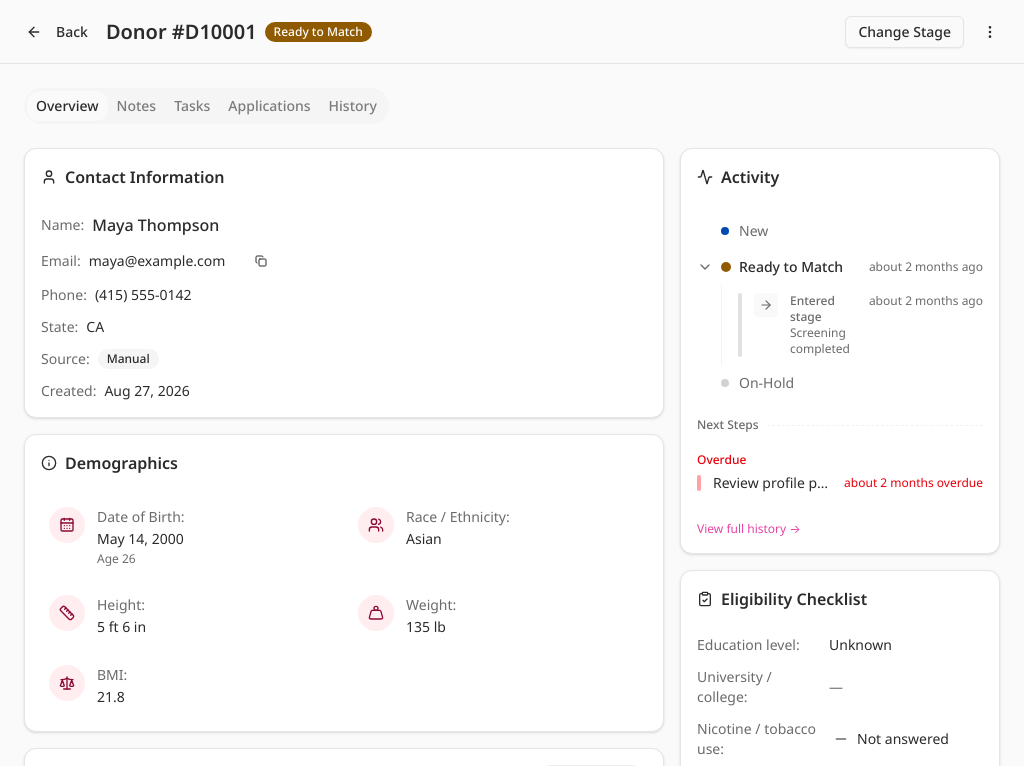
Test: DonorDetailPage › uses the surrogate overview cards and keeps notes, tasks and attachments in their tabs
Expected: the text "Contact Information" is shown, [41,165,224,189]
Expected: the text "Demographics" is shown, [41,451,178,475]
Click the tab "Notes" at (136, 106), box [108,91,165,121]
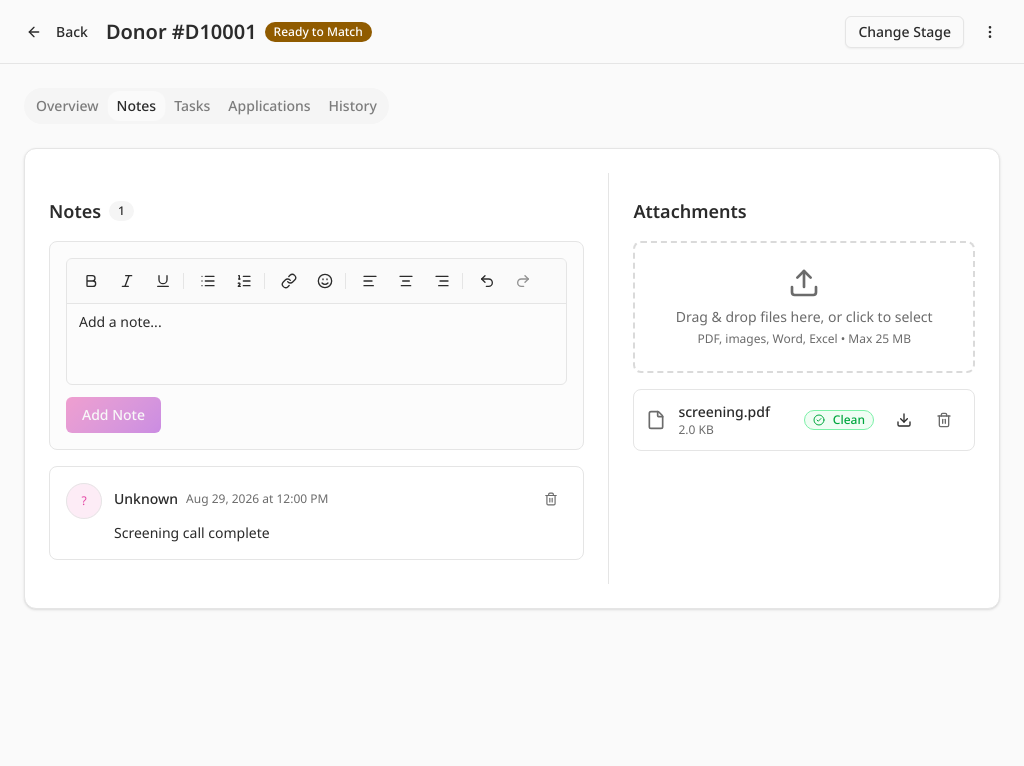
Expected: the heading "Attachments" is shown, [633,197,747,225]
Expected: the text "screening.pdf" is shown, [678,402,770,421]
Expected: the text "Screening call complete" is shown, [114,523,270,542]
Click the tab "Tasks" at (192, 106), box [165,91,219,121]
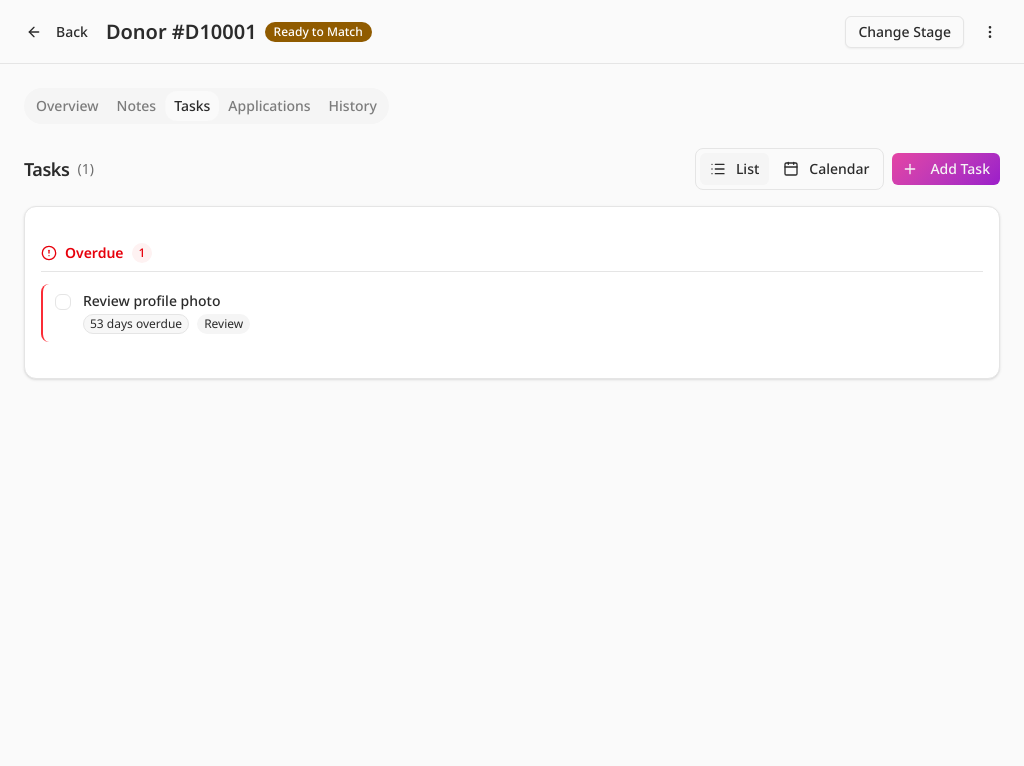
Expected: the button "List" is shown, [700,153,769,185]
Expected: the button "Calendar" is shown, [773,153,879,185]
Expected: the button "Review profile photo 53 days overdue review" is shown, [83,292,971,334]
